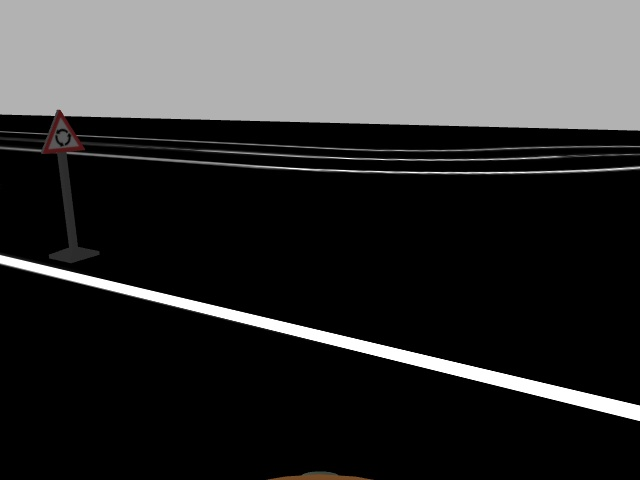roundabout: (39, 108, 84, 153)
